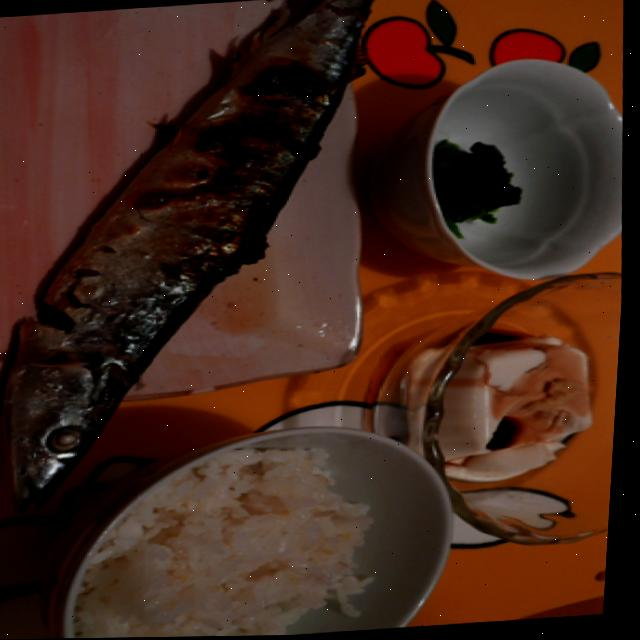熟制海鲜: (0, 0, 402, 464)
